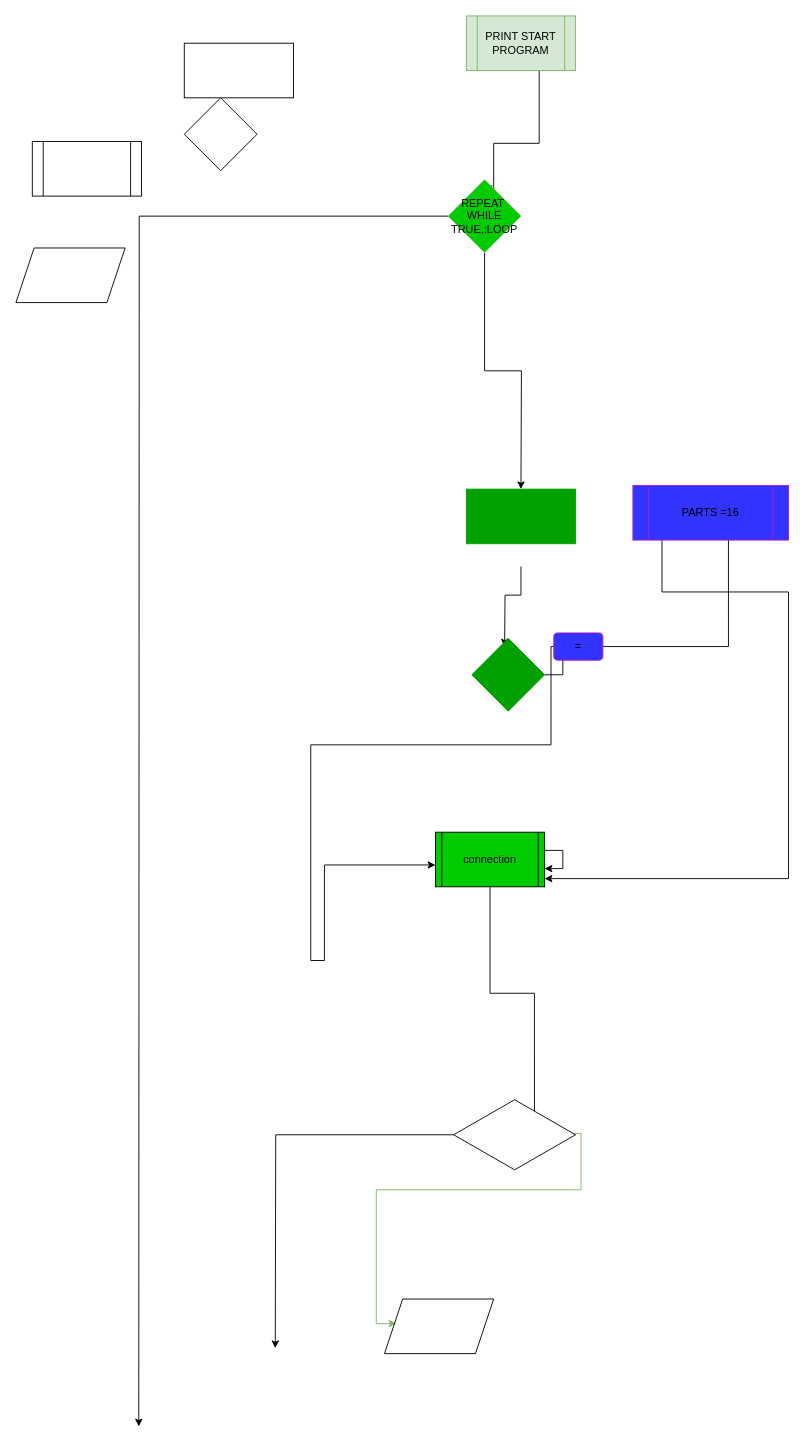
This 812x1450 diagram has some shape labels left out. The shapes that lost their labels are listed below. From the top down, each one's box as (x1, y1, x2, y2) in pixels, then its label:
(465, 488, 576, 544): LCD: TEXT: COLOUR:
(471, 637, 545, 711): REAPEAT UNTIL,
(453, 1099, 576, 1170): if button is pressed, button = D2
